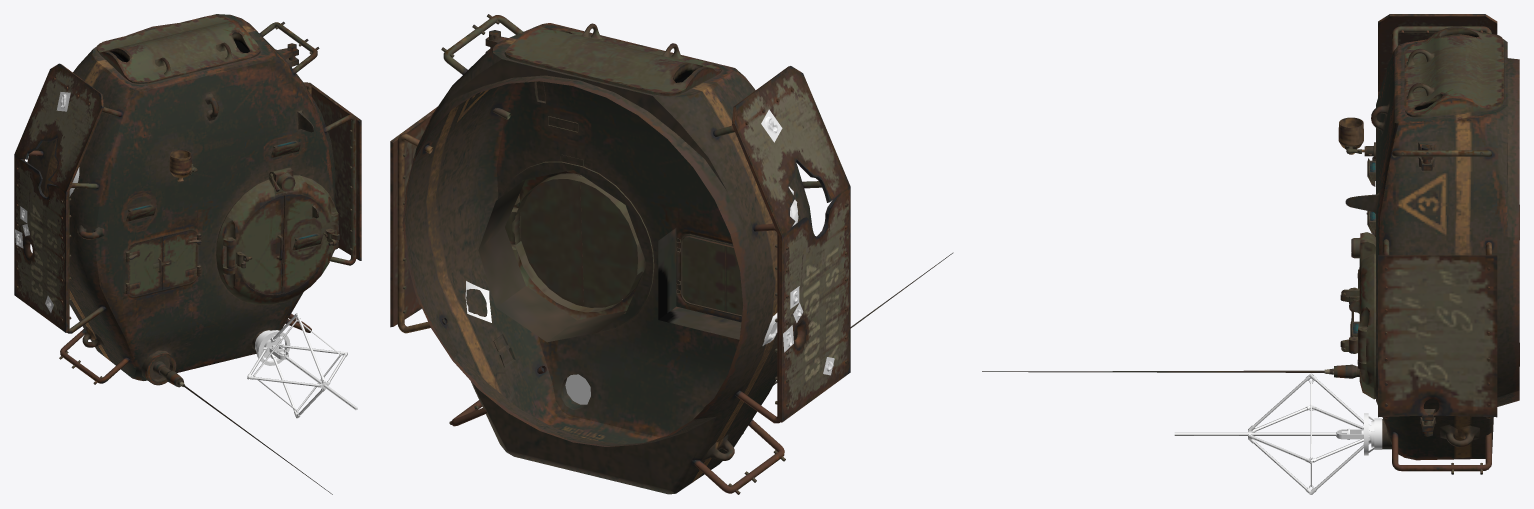
Rendered from Turret_01.glb.
The picture shows the model from 3 angles, left to right: view 1: azimuth 30°, elevation 25°; view 2: azimuth 150°, elevation 25°; view 3: azimuth 270°, elevation 25°; orthographic projection. The views are drawn at different scales.
Visible parts, largest first — view 1: set_0_group_0, set_0_group_1, set_0_group_2; view 2: set_0_group_0, set_0_group_2, set_0_group_1; view 3: set_0_group_0, set_0_group_1.
Boxes of the visible parts, x1,y1,x2,y2 form: set_0_group_0: (14,14,361,494); set_0_group_1: (247,313,357,418); set_0_group_2: (15,92,79,312); set_0_group_0: (390,14,953,494); set_0_group_2: (465,109,834,375); set_0_group_1: (565,374,590,404); set_0_group_0: (982,14,1519,474); set_0_group_1: (1174,373,1382,494).
Size of the model in its own units: 2.3 by 2.55 by 3.12.
3 materials, 1 textured.
